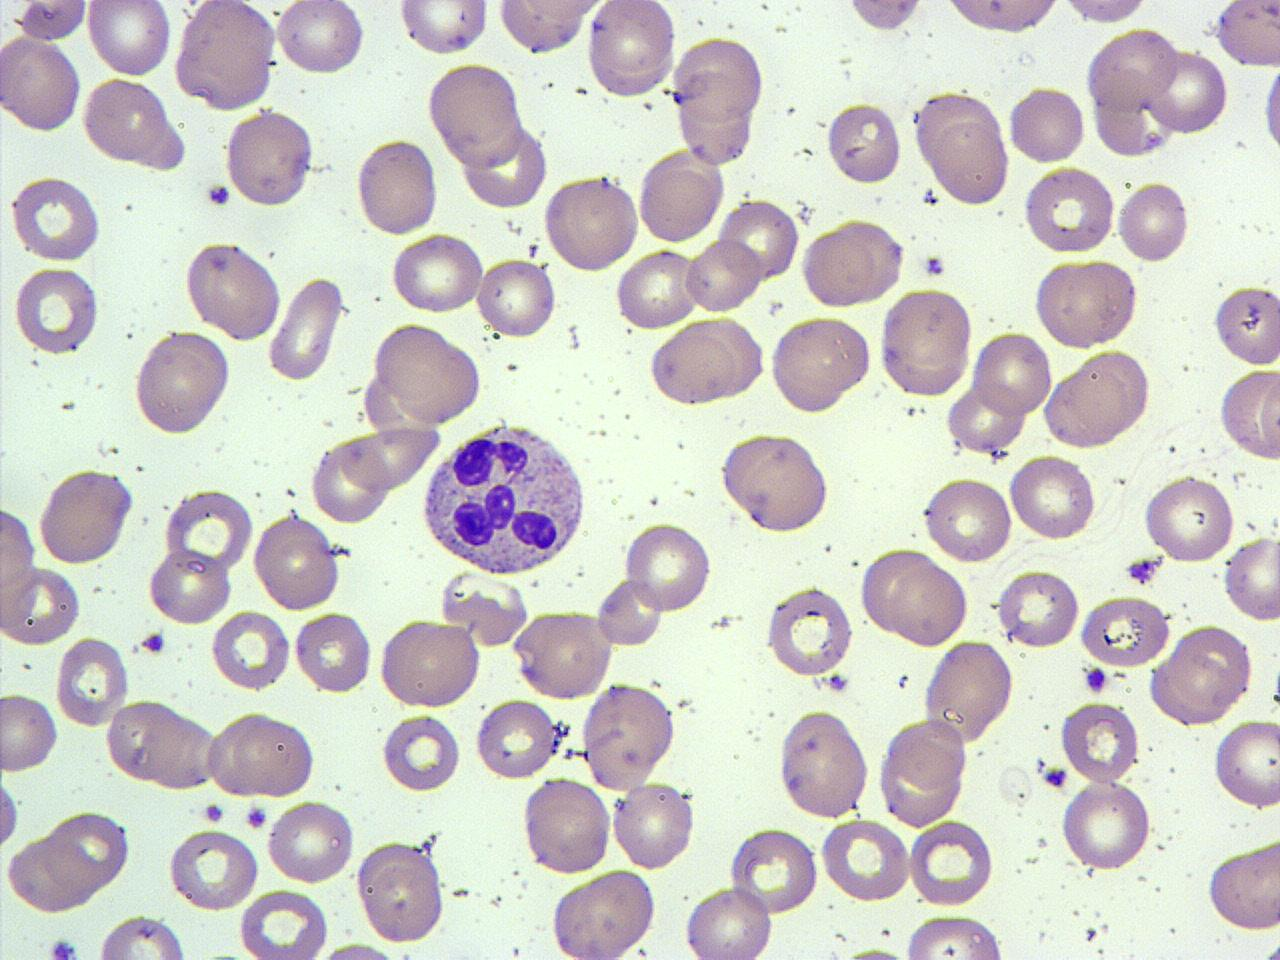Platelets: (1123, 554, 1163, 584), (47, 935, 79, 960), (204, 182, 232, 208), (139, 630, 167, 655), (1083, 664, 1107, 694), (246, 804, 272, 830), (1041, 765, 1069, 788), (920, 254, 945, 278), (201, 801, 225, 825), (824, 672, 850, 692), (327, 543, 352, 561), (922, 186, 940, 206)
RBC: (169, 1, 278, 114), (718, 430, 833, 536), (644, 315, 768, 408), (371, 320, 484, 423), (1040, 348, 1154, 450), (578, 681, 679, 794), (878, 285, 976, 400), (130, 330, 234, 438), (766, 314, 874, 416), (774, 708, 872, 820), (548, 867, 660, 960), (182, 240, 284, 342), (426, 59, 524, 165), (922, 637, 1016, 747), (542, 172, 642, 275), (1032, 256, 1140, 351), (208, 708, 318, 800), (34, 468, 137, 566), (796, 219, 908, 309), (355, 838, 446, 946), (222, 106, 316, 210), (376, 616, 481, 710), (510, 608, 616, 701), (520, 774, 612, 878), (584, 1, 678, 101), (622, 518, 716, 614), (636, 145, 726, 245), (252, 510, 342, 610), (764, 582, 856, 678), (725, 824, 820, 916), (1141, 472, 1237, 564), (6, 174, 106, 262), (354, 136, 440, 237), (1060, 776, 1152, 871), (387, 230, 486, 318), (1022, 164, 1116, 256), (1083, 26, 1181, 114), (12, 264, 103, 358), (906, 815, 996, 910), (0, 32, 83, 134), (922, 473, 1014, 565), (266, 274, 344, 382), (1008, 452, 1100, 542), (161, 486, 255, 574), (672, 34, 766, 122), (266, 796, 356, 886), (820, 816, 912, 904), (912, 90, 1002, 178), (4, 834, 101, 916), (81, 76, 169, 164), (1165, 624, 1253, 714), (970, 328, 1055, 419), (166, 828, 260, 912), (438, 566, 530, 650), (611, 779, 695, 871), (1204, 834, 1280, 936), (1146, 46, 1230, 137), (924, 118, 1010, 206), (474, 254, 558, 341), (718, 196, 801, 283), (308, 438, 391, 526), (474, 695, 558, 781), (995, 568, 1081, 651), (274, 0, 367, 78), (53, 634, 130, 728), (614, 248, 700, 331), (146, 546, 234, 626), (890, 560, 970, 648), (85, 0, 173, 80), (1145, 654, 1241, 728), (1080, 592, 1172, 669), (1057, 698, 1139, 784), (856, 546, 933, 635), (1006, 83, 1087, 167), (340, 422, 438, 491), (210, 608, 291, 692), (49, 807, 130, 891), (292, 608, 372, 694), (825, 99, 904, 186), (683, 886, 775, 960), (381, 710, 461, 794), (1211, 714, 1279, 812), (1116, 178, 1192, 264), (237, 888, 330, 959), (888, 715, 968, 794), (684, 235, 762, 314), (1219, 365, 1279, 461), (1213, 282, 1279, 369), (945, 385, 1027, 455), (900, 910, 1011, 959), (495, 0, 592, 55), (397, 0, 490, 56), (0, 689, 60, 774), (1223, 533, 1279, 624), (942, 0, 1065, 38), (95, 910, 188, 958), (1214, 0, 1280, 68), (8, 0, 89, 44), (0, 504, 37, 596), (843, 0, 926, 33), (1055, 0, 1157, 27), (1251, 368, 1280, 461), (0, 767, 20, 856)
WBC: (416, 419, 591, 582), (171, 0, 280, 113), (842, 0, 928, 32)
